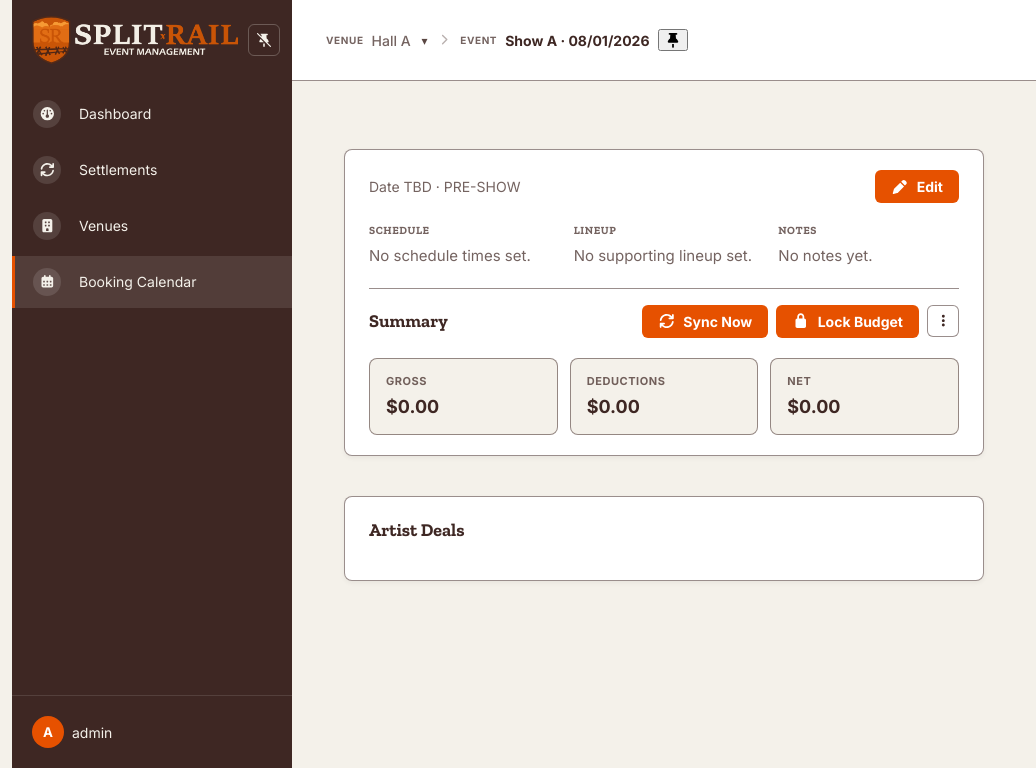
Test: EventWorkspacePage › offers Cancel booking in the workspace kebab for a user who can manage events
The width and height of the screenshot is (1036, 768).
Click the button with test id "festival-convert-menu-trigger" at (943, 321), box [927, 305, 959, 337]
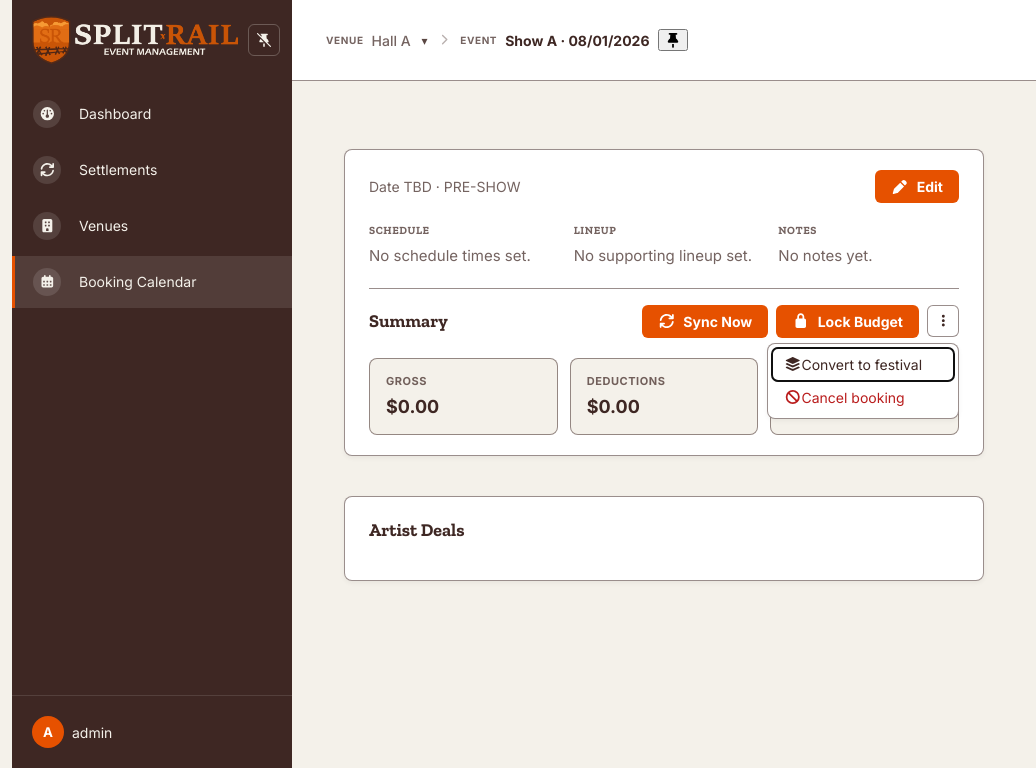
Expected: the menu item with test id "event-workspace-cancel-booking" reads "Cancel booking", [772, 381, 954, 414]
Expected: the menu item with test id "festival-convert-button" is shown, [772, 348, 954, 381]
